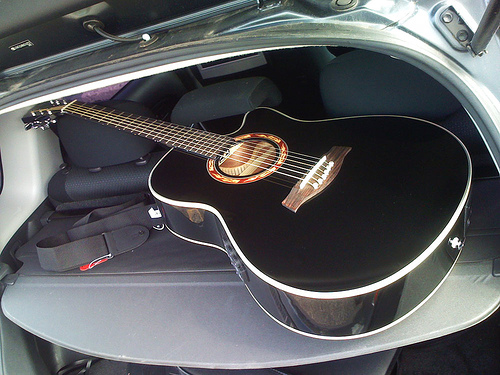guitar: (18, 95, 477, 345)
